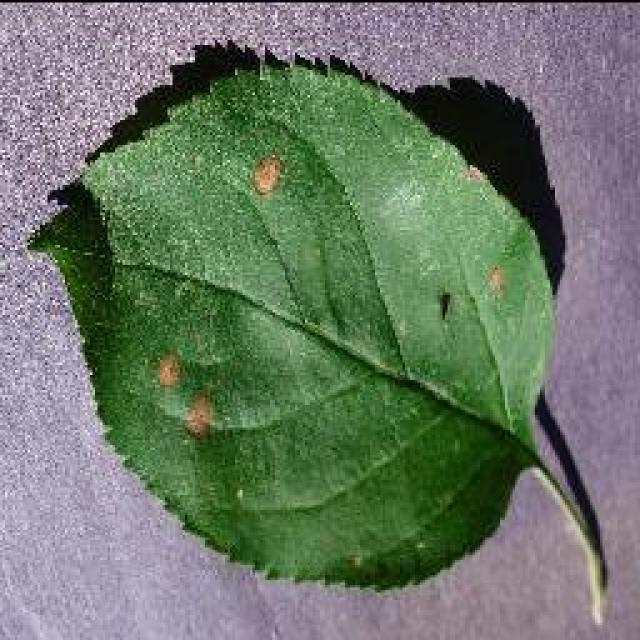Apple___Black_rot: (20, 55, 559, 598)
